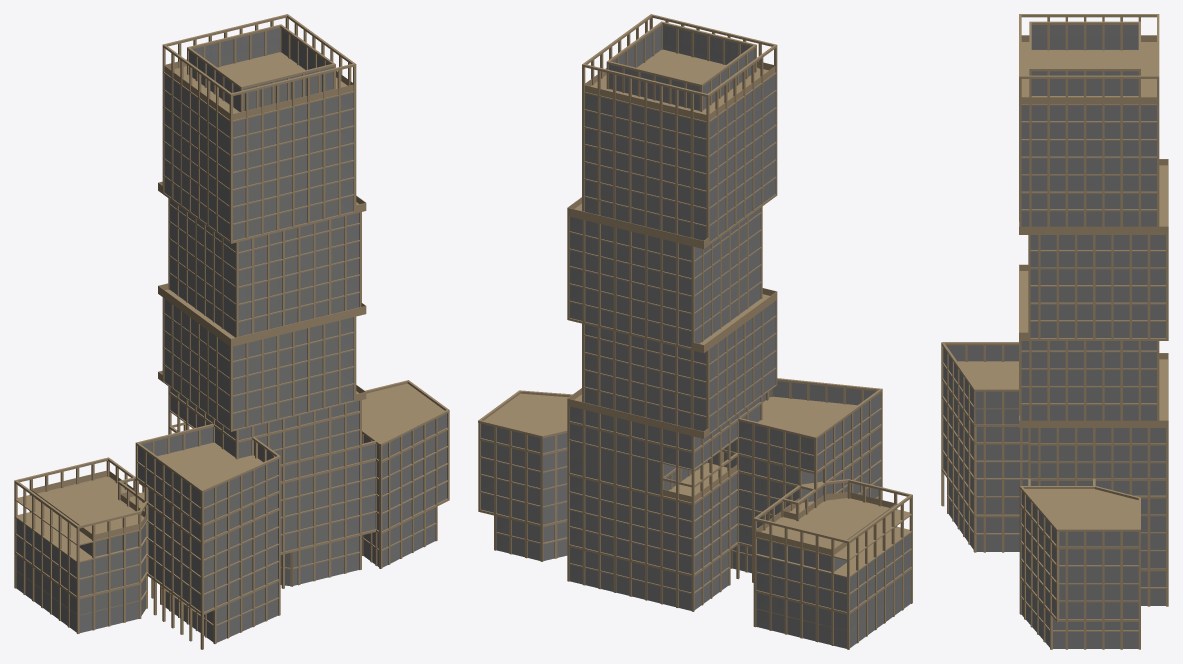
File: woho-model.obj
The picture shows the model from 3 angles, left to right: view 1: azimuth 30°, elevation 25°; view 2: azimuth 150°, elevation 25°; view 3: azimuth 270°, elevation 25°; orthographic projection. The views are drawn at different scales.
Parts seen in each view (by area): view 1: Mesh847 Group67 Model, Mesh855 Group76 Model, Mesh854 Group75 Model, Mesh856 Group77 Model, Mesh6 Group5 Model, Mesh14 Group14 Model, Mesh547 Group50 Group47 Model, Mesh853 Group74 Model, Mesh20 Group17 Model, Mesh21 Group18 Model, Mesh860 Group81 Model, Mesh2 Group2 Model (+20 smaller); view 2: Mesh847 Group67 Model, Mesh855 Group76 Model, Mesh854 Group75 Model, Mesh856 Group77 Model, Mesh6 Group5 Model, Mesh14 Group14 Model, Mesh547 Group50 Group47 Model, Mesh10 Group10 Model, Mesh853 Group74 Model, Mesh860 Group81 Model, Mesh21 Group18 Model, Mesh20 Group17 Model (+21 smaller); view 3: Mesh847 Group67 Model, Mesh855 Group76 Model, Mesh854 Group75 Model, Mesh856 Group77 Model, Mesh547 Group50 Group47 Model, Mesh20 Group17 Model, Mesh853 Group74 Model, Mesh505 Group46 Group45 Model, Mesh845 Group66 Model, Mesh860 Group81 Model, Mesh2 Group2 Model, Mesh21 Group18 Model (+26 smaller).
Boxes of the visible parts, box(x1,y1,x2,y2) form: Mesh847 Group67 Model: box(148, 413, 446, 611); Mesh855 Group76 Model: box(164, 74, 353, 240); Mesh854 Group75 Model: box(170, 199, 359, 337); Mesh856 Group77 Model: box(164, 298, 353, 429); Mesh6 Group5 Model: box(16, 518, 145, 632); Mesh14 Group14 Model: box(14, 446, 447, 561); Mesh547 Group50 Group47 Model: box(188, 28, 333, 111); Mesh853 Group74 Model: box(170, 388, 359, 458); Mesh20 Group17 Model: box(362, 380, 449, 446); Mesh21 Group18 Model: box(136, 410, 361, 509); Mesh860 Group81 Model: box(138, 427, 278, 507); Mesh2 Group2 Model: box(165, 582, 278, 642); Mesh847 Group67 Model: box(481, 423, 880, 573); Mesh855 Group76 Model: box(584, 74, 775, 241); Mesh854 Group75 Model: box(569, 208, 760, 347); Mesh856 Group77 Model: box(584, 301, 775, 432); Mesh6 Group5 Model: box(756, 533, 910, 648); Mesh14 Group14 Model: box(479, 456, 912, 560); Mesh547 Group50 Group47 Model: box(609, 25, 754, 111); Mesh10 Group10 Model: box(569, 547, 728, 610); Mesh853 Group74 Model: box(569, 398, 760, 468); Mesh860 Group81 Model: box(739, 381, 880, 454); Mesh21 Group18 Model: box(567, 396, 881, 470); Mesh20 Group17 Model: box(478, 390, 572, 438); Mesh847 Group67 Model: box(943, 383, 1165, 619); Mesh855 Group76 Model: box(1021, 105, 1156, 226); Mesh854 Group75 Model: box(1030, 235, 1165, 337); Mesh856 Group77 Model: box(1021, 341, 1156, 420); Mesh547 Group50 Group47 Model: box(1031, 25, 1138, 96); Mesh20 Group17 Model: box(1019, 478, 1140, 531); Mesh853 Group74 Model: box(1030, 428, 1165, 461); Mesh505 Group46 Group45 Model: box(1019, 42, 1158, 105); Mesh845 Group66 Model: box(1021, 581, 1138, 648); Mesh860 Group81 Model: box(943, 345, 1018, 408); Mesh2 Group2 Model: box(948, 481, 1019, 551); Mesh21 Group18 Model: box(941, 361, 1168, 463).
Size of the model in its own units: 7421 by 9520 by 3734.
